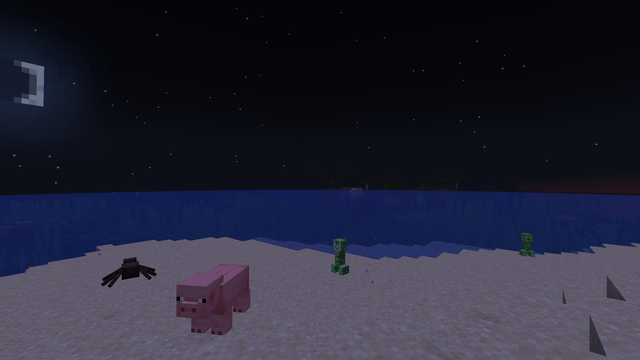araignees: (107, 253, 151, 287)
cochons: (186, 261, 256, 341)
creepers: (331, 236, 347, 274), (521, 231, 531, 256)
